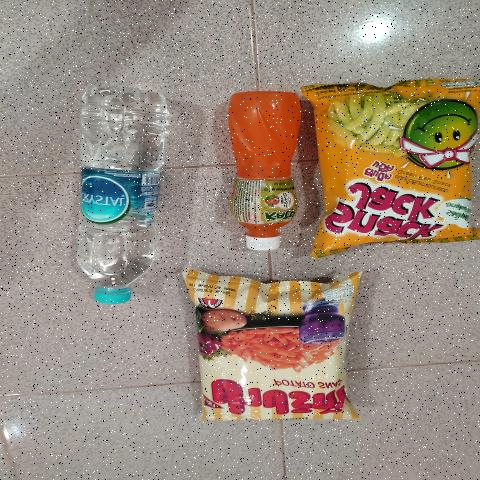crystal: (63, 91, 176, 310)
paprika: (208, 286, 350, 416)
snack_jack: (322, 94, 467, 236)
